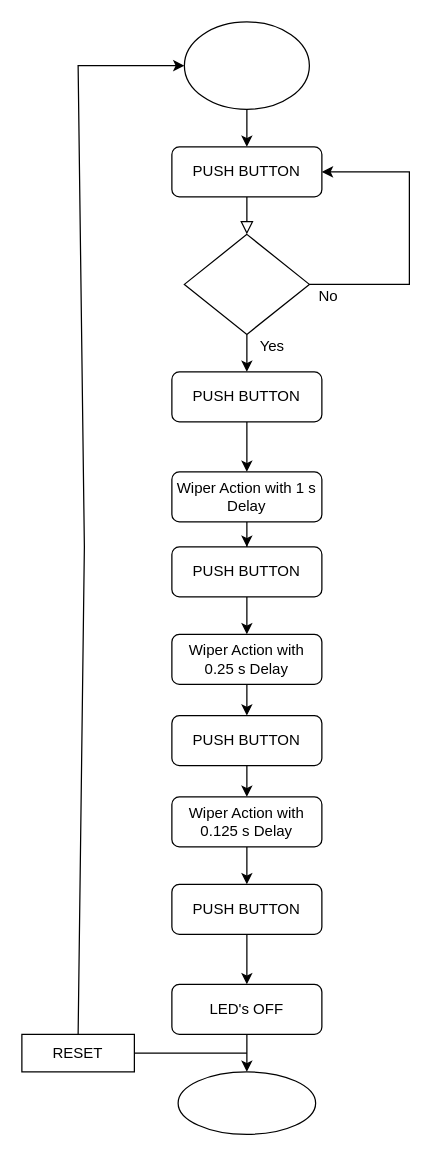
Image size: 441x1156. Some labels were removed from this diagram. The shapes that lost their labels are listed below. From the top down, each one's centre as x and y in pixels, then its label:
the point at 246,65: START
the point at 246,283: Red LED indicating Ignition
the point at 246,1102: END
